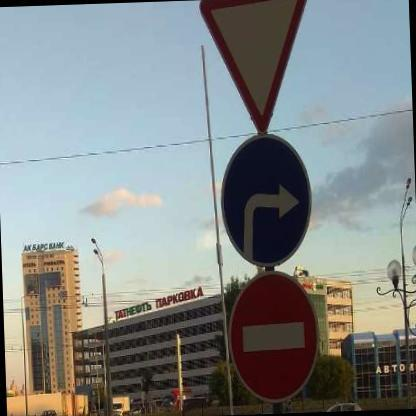road_sign: (200, 0, 309, 132), (220, 134, 313, 270), (231, 271, 320, 402)
